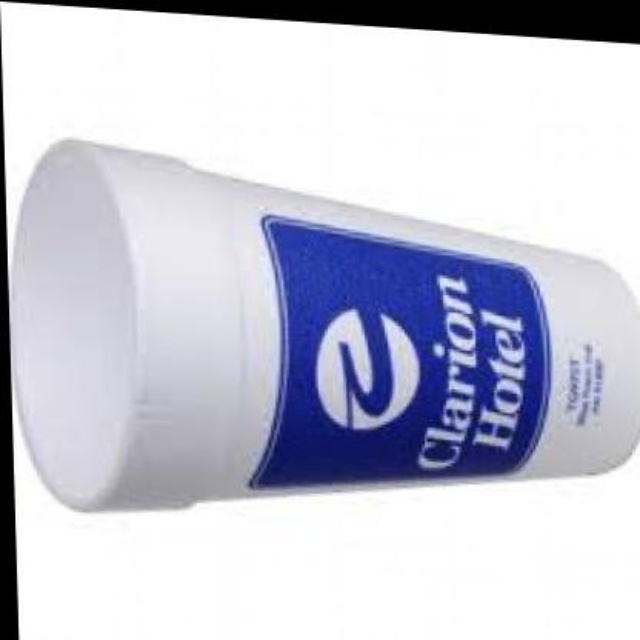trash: (11, 142, 638, 508)
